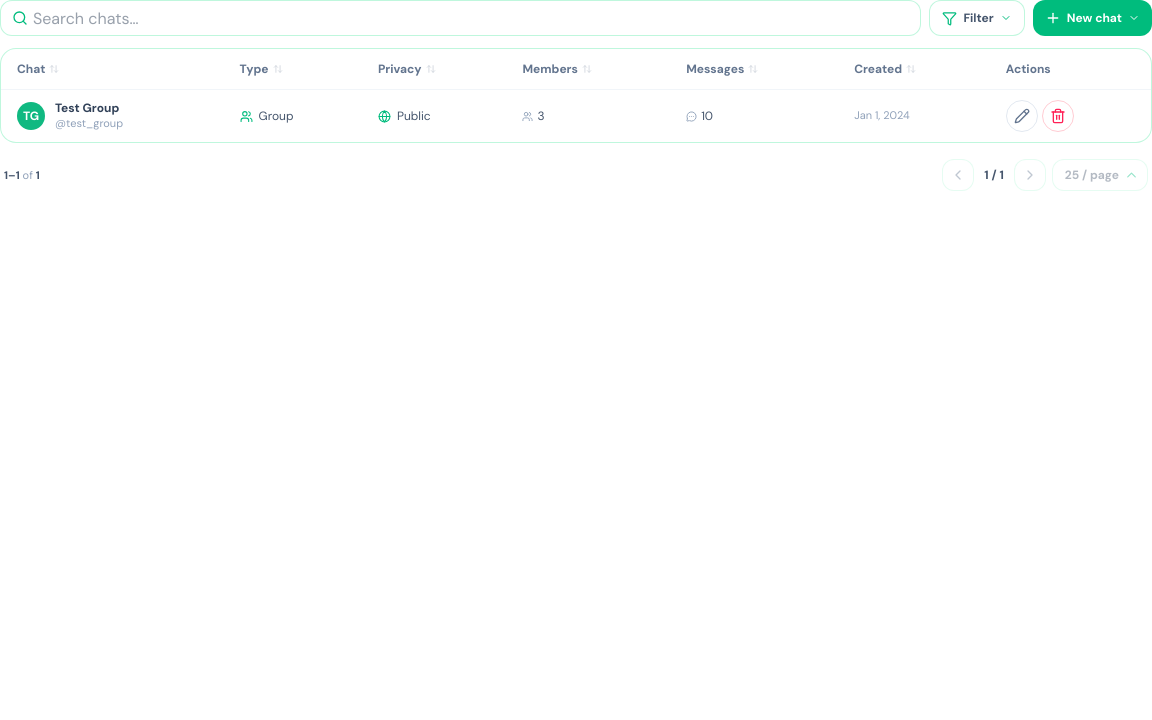
Test: ChatsTab badge rendering › no role badges for chats › shows the selected owner's badges when editing an existing chat
Click the button named "Edit" at (1022, 116), box [1006, 100, 1038, 132]
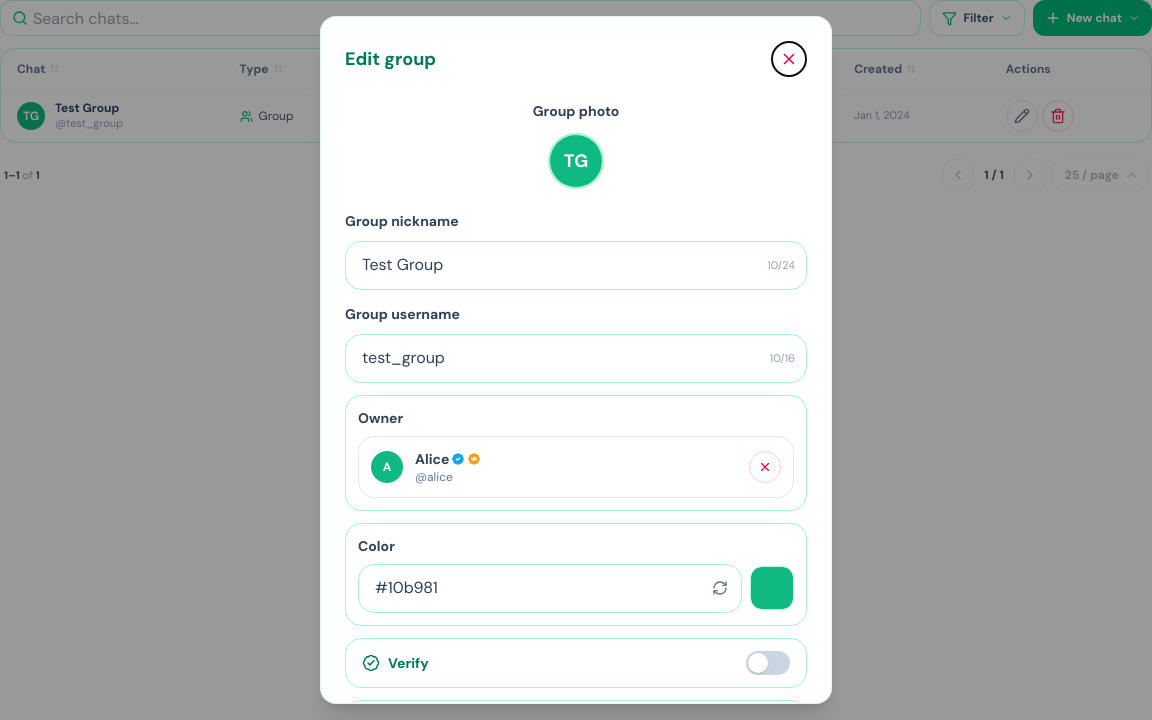
Result: the picture named "Verified" is shown at [451, 452, 465, 466]
Result: the picture named "Server Owner" is shown at [467, 452, 481, 466]
